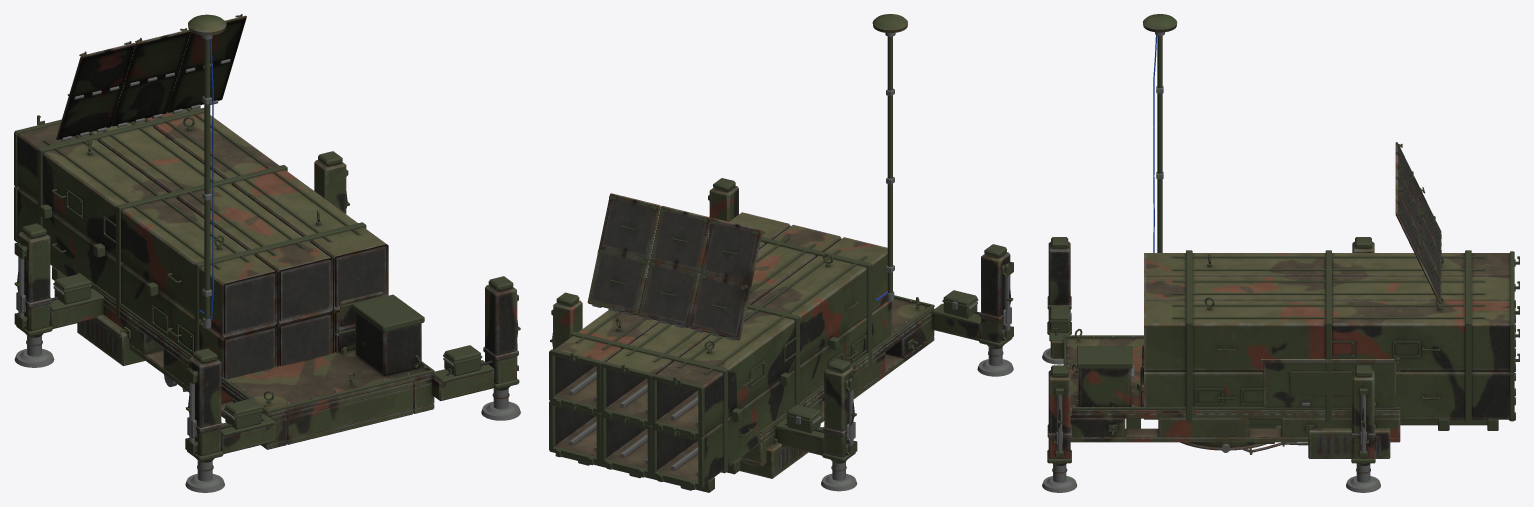
File: nasams.glb
3 renders of one model, left to right at view 1: azimuth 30°, elevation 25°; view 2: azimuth 150°, elevation 25°; view 3: azimuth 270°, elevation 25°, orthographic. The views are drawn at different scales.
Visible parts, largest first — view 1: cradle|NSM_body, body|NSM_body, cradle|NSM_dark, cradle|NSM_body2, body|NSM_body2, body|NSM_steel, lid3|NSM_body, lid4|NSM_body, lid0|NSM_body, lid1|NSM_body, lid2|NSM_body, turret|NSM_body2 (+4 smaller); view 2: cradle|NSM_body, cradle|NSM_body2, body|NSM_body, cradle|NSM_dark, body|NSM_body2, lid3|NSM_dark, lid4|NSM_dark, lid0|NSM_dark, lid5|NSM_dark, lid1|NSM_dark, lid2|NSM_dark, body|NSM_steel (+10 smaller); view 3: cradle|NSM_body, body|NSM_body, cradle|NSM_body2, body|NSM_body2, body|NSM_steel, turret|NSM_body2, body|NSM_dark, cradle|NSM_dark, turret|NSM_body, body|NSM_bodyF.
Part boxes in pixels (x1=…): cradle|NSM_body: x1=17, y1=107, x2=388, y2=391; body|NSM_body: x1=18, y1=159, x2=516, y2=456; cradle|NSM_dark: x1=82, y1=246, x2=385, y2=379; cradle|NSM_body2: x1=14, y1=108, x2=366, y2=353; body|NSM_body2: x1=14, y1=151, x2=519, y2=462; body|NSM_steel: x1=14, y1=257, x2=520, y2=492; lid3|NSM_body: x1=68, y1=43, x2=135, y2=98; lid4|NSM_body: x1=124, y1=29, x2=190, y2=84; lid0|NSM_body: x1=56, y1=85, x2=123, y2=139; lid1|NSM_body: x1=111, y1=72, x2=178, y2=126; lid2|NSM_body: x1=167, y1=58, x2=234, y2=112; turret|NSM_body2: x1=204, y1=39, x2=210, y2=319; cradle|NSM_body: x1=554, y1=212, x2=892, y2=483; cradle|NSM_body2: x1=549, y1=231, x2=871, y2=492; body|NSM_body: x1=553, y1=186, x2=1010, y2=467; cradle|NSM_dark: x1=555, y1=356, x2=804, y2=481; body|NSM_body2: x1=551, y1=178, x2=1013, y2=463; lid3|NSM_dark: x1=704, y1=222, x2=757, y2=281; lid4|NSM_dark: x1=653, y1=210, x2=706, y2=269; lid0|NSM_dark: x1=693, y1=276, x2=746, y2=335; lid5|NSM_dark: x1=602, y1=197, x2=655, y2=256; lid1|NSM_dark: x1=642, y1=264, x2=695, y2=323; lid2|NSM_dark: x1=591, y1=252, x2=644, y2=310; body|NSM_steel: x1=553, y1=275, x2=1013, y2=491; cradle|NSM_body: x1=1144, y1=253, x2=1509, y2=458; body|NSM_body: x1=1048, y1=241, x2=1400, y2=458; cradle|NSM_body2: x1=1172, y1=250, x2=1519, y2=443; body|NSM_body2: x1=1047, y1=237, x2=1400, y2=465; body|NSM_steel: x1=1042, y1=312, x2=1400, y2=492; turret|NSM_body2: x1=1157, y1=36, x2=1162, y2=252; body|NSM_dark: x1=1047, y1=296, x2=1375, y2=473; cradle|NSM_dark: x1=1242, y1=435, x2=1380, y2=455; turret|NSM_body: x1=1143, y1=14, x2=1177, y2=32; body|NSM_bodyF: x1=1054, y1=328, x2=1381, y2=443.
Size of the model in its own units: 4.16 by 4.99 by 5.82.
45 materials, 19 textured.
